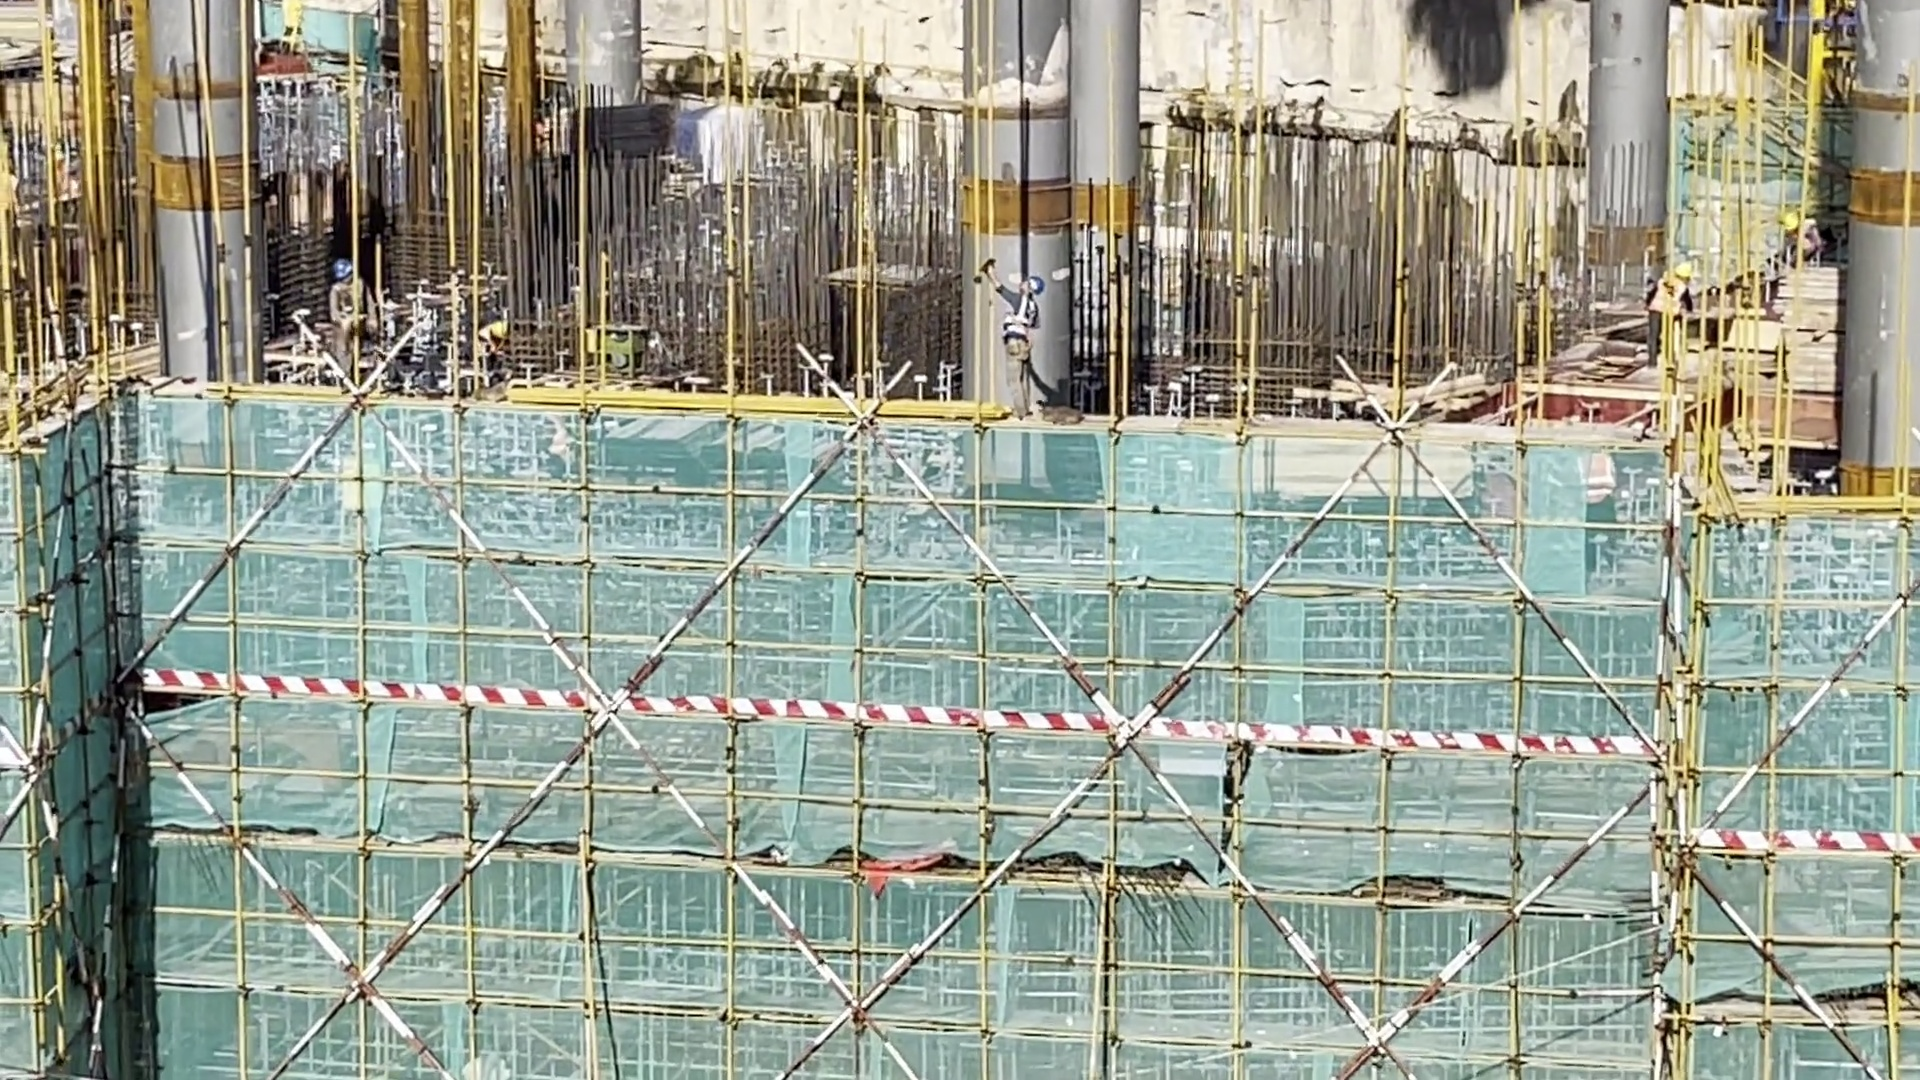helmet: (1021, 276, 1053, 299), (329, 259, 356, 284), (494, 321, 518, 341), (1673, 262, 1697, 279), (1781, 214, 1798, 231)
person: (324, 265, 394, 395), (996, 268, 1036, 413), (1651, 250, 1689, 375), (1779, 206, 1824, 267), (471, 310, 501, 381)
vest: (331, 287, 373, 347), (1001, 309, 1039, 362), (1648, 279, 1689, 321), (475, 325, 498, 358), (1797, 225, 1821, 255)
